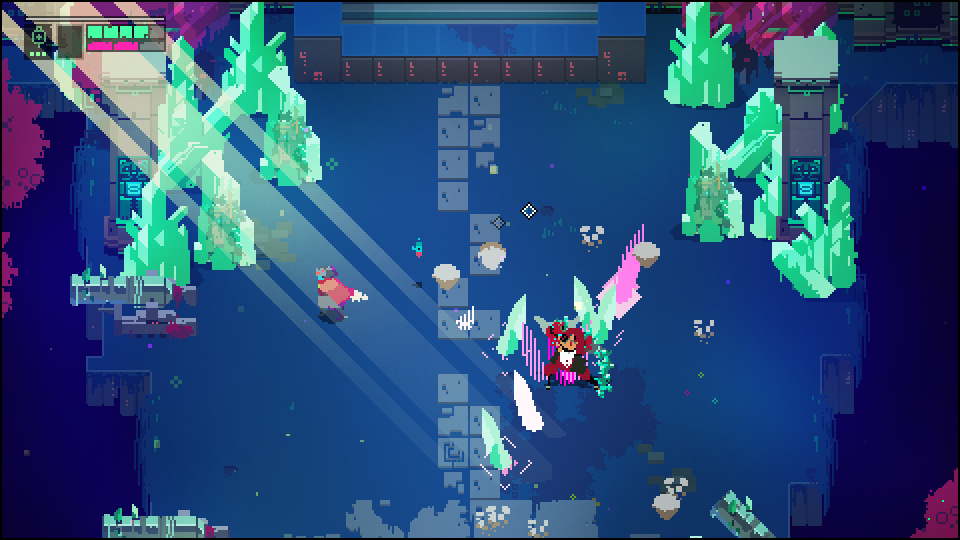hanged_crys: (474, 407, 511, 471), (498, 288, 531, 357), (511, 368, 542, 426), (572, 279, 601, 331)
hanged_man: (536, 315, 614, 397)
player: (313, 267, 350, 314)
